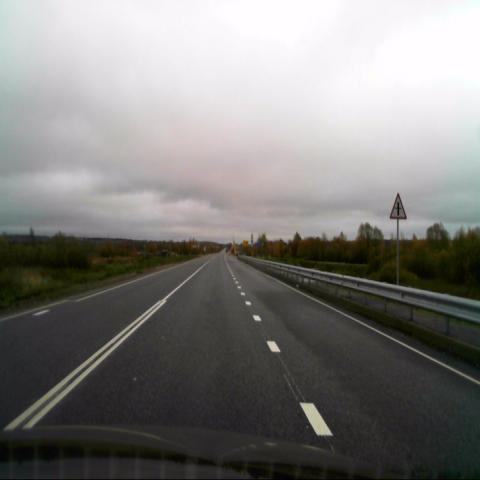2_3: (389, 194, 406, 220)
